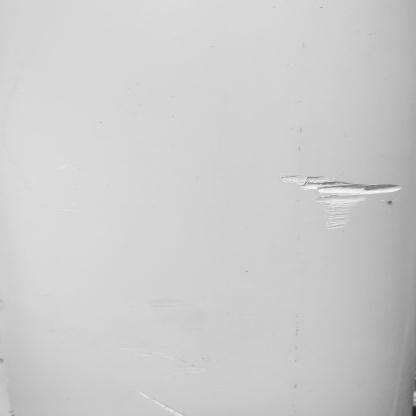sunshang: (282, 155, 406, 231)
